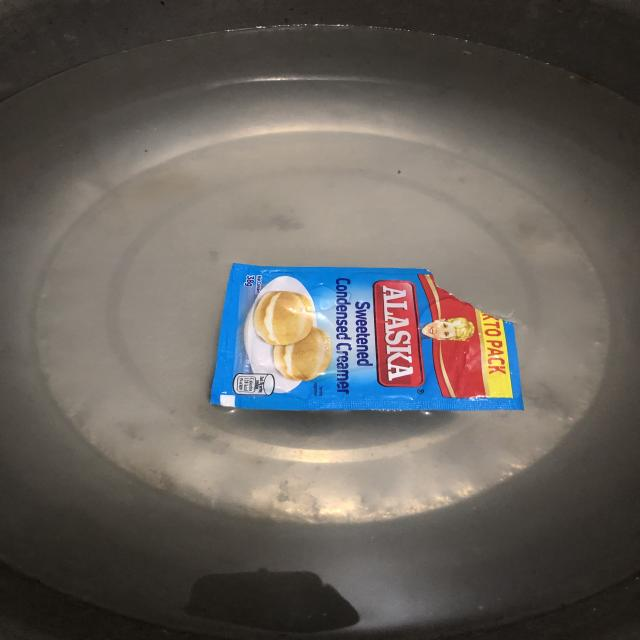Plastic Wrapper: (201, 261, 526, 412)
